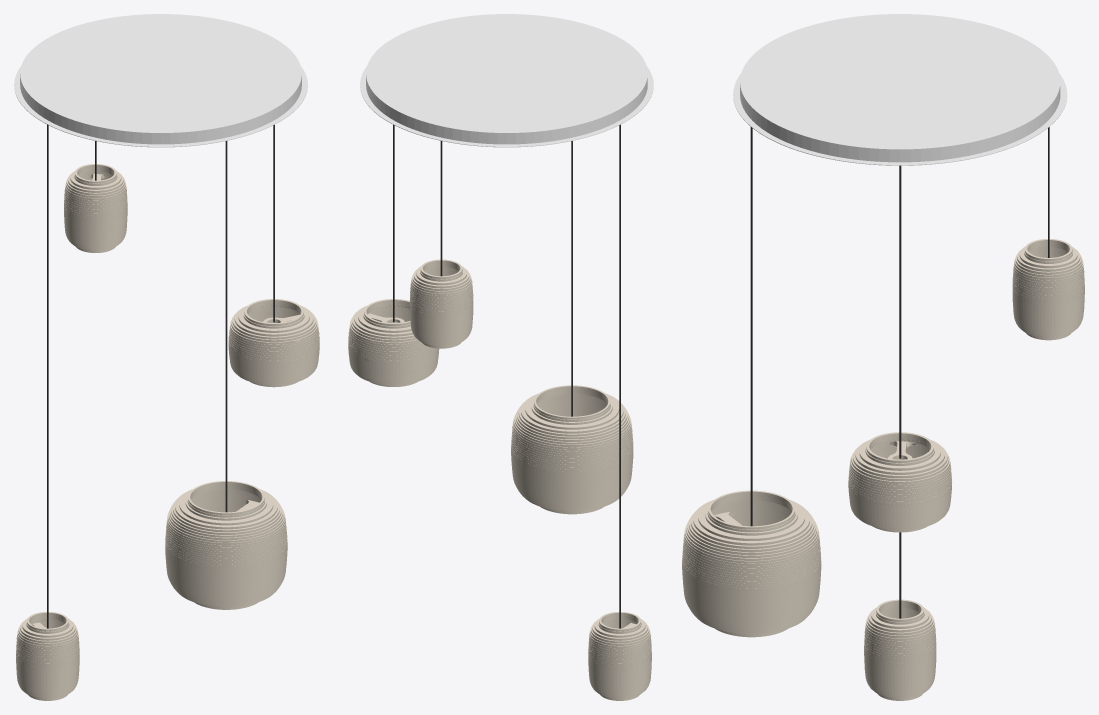
3 renders of one model, left to right at view 1: azimuth 30°, elevation 25°; view 2: azimuth 150°, elevation 25°; view 3: azimuth 270°, elevation 25°, orthographic. The views are drawn at different scales.
Bounding box in the file's own units: 1.04 × 2 × 1.08.
